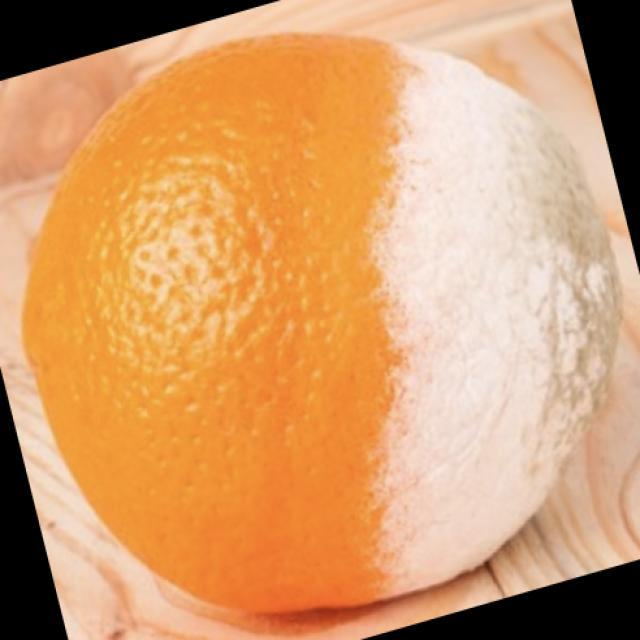sangat-busuk: (24, 35, 619, 612)
